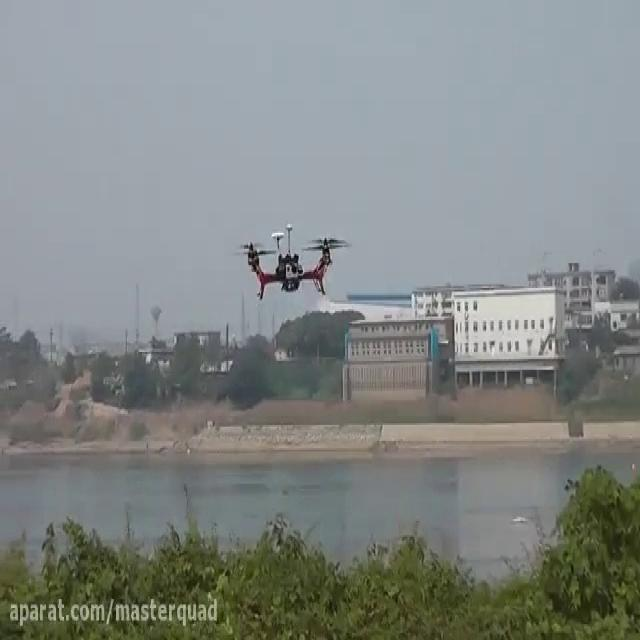drone: (235, 215, 354, 309)
